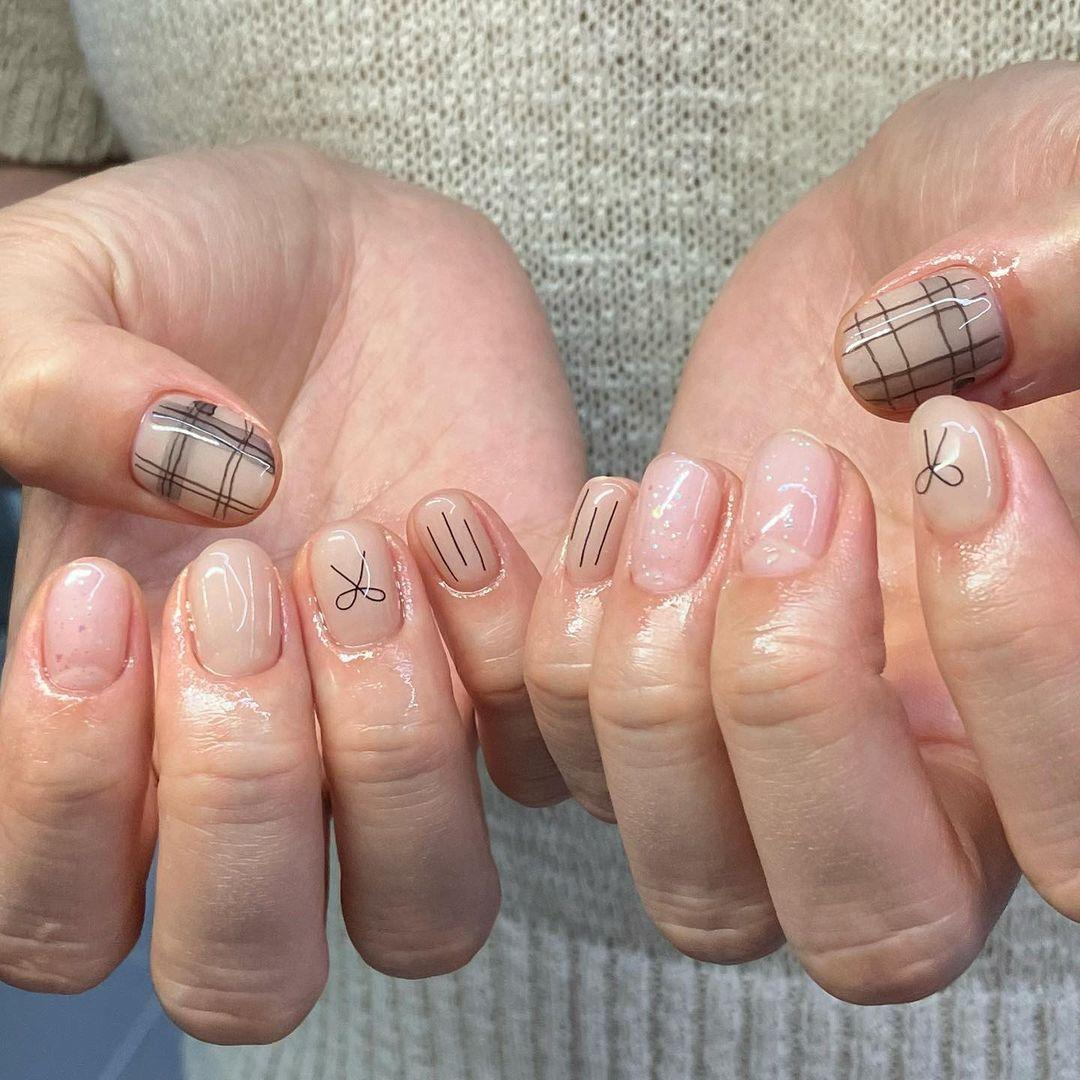nail: (834, 261, 1011, 412), (128, 388, 281, 527), (737, 427, 839, 578), (184, 536, 282, 678), (627, 451, 723, 594), (37, 556, 132, 695), (303, 519, 403, 651), (912, 415, 1003, 536), (406, 486, 505, 597), (563, 474, 637, 585)
